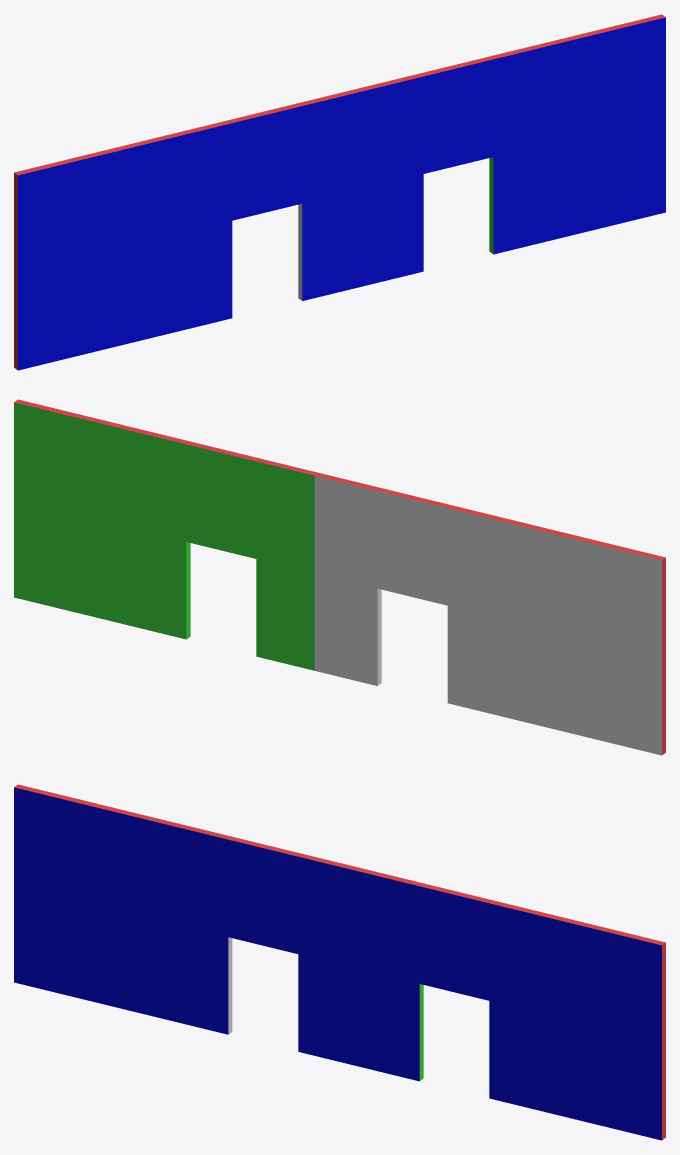
Rendered from gebaeude - Kopie_old.fbx.
3 renders of one model, top to bottom at view 1: azimuth 30°, elevation 25°; view 2: azimuth 150°, elevation 25°; view 3: azimuth 330°, elevation 25°, orthographic.
Visible parts, largest first — view 1: Lager Innenwand; view 2: Lager Innenwand; view 3: Lager Innenwand.
Part boxes in pixels (left/top/right/bottom): Lager Innenwand: left=14, top=14, right=665, bottom=370; Lager Innenwand: left=14, top=399, right=665, bottom=755; Lager Innenwand: left=14, top=784, right=665, bottom=1140.
Size of the model in its own units: 1390 by 400 by 15.
